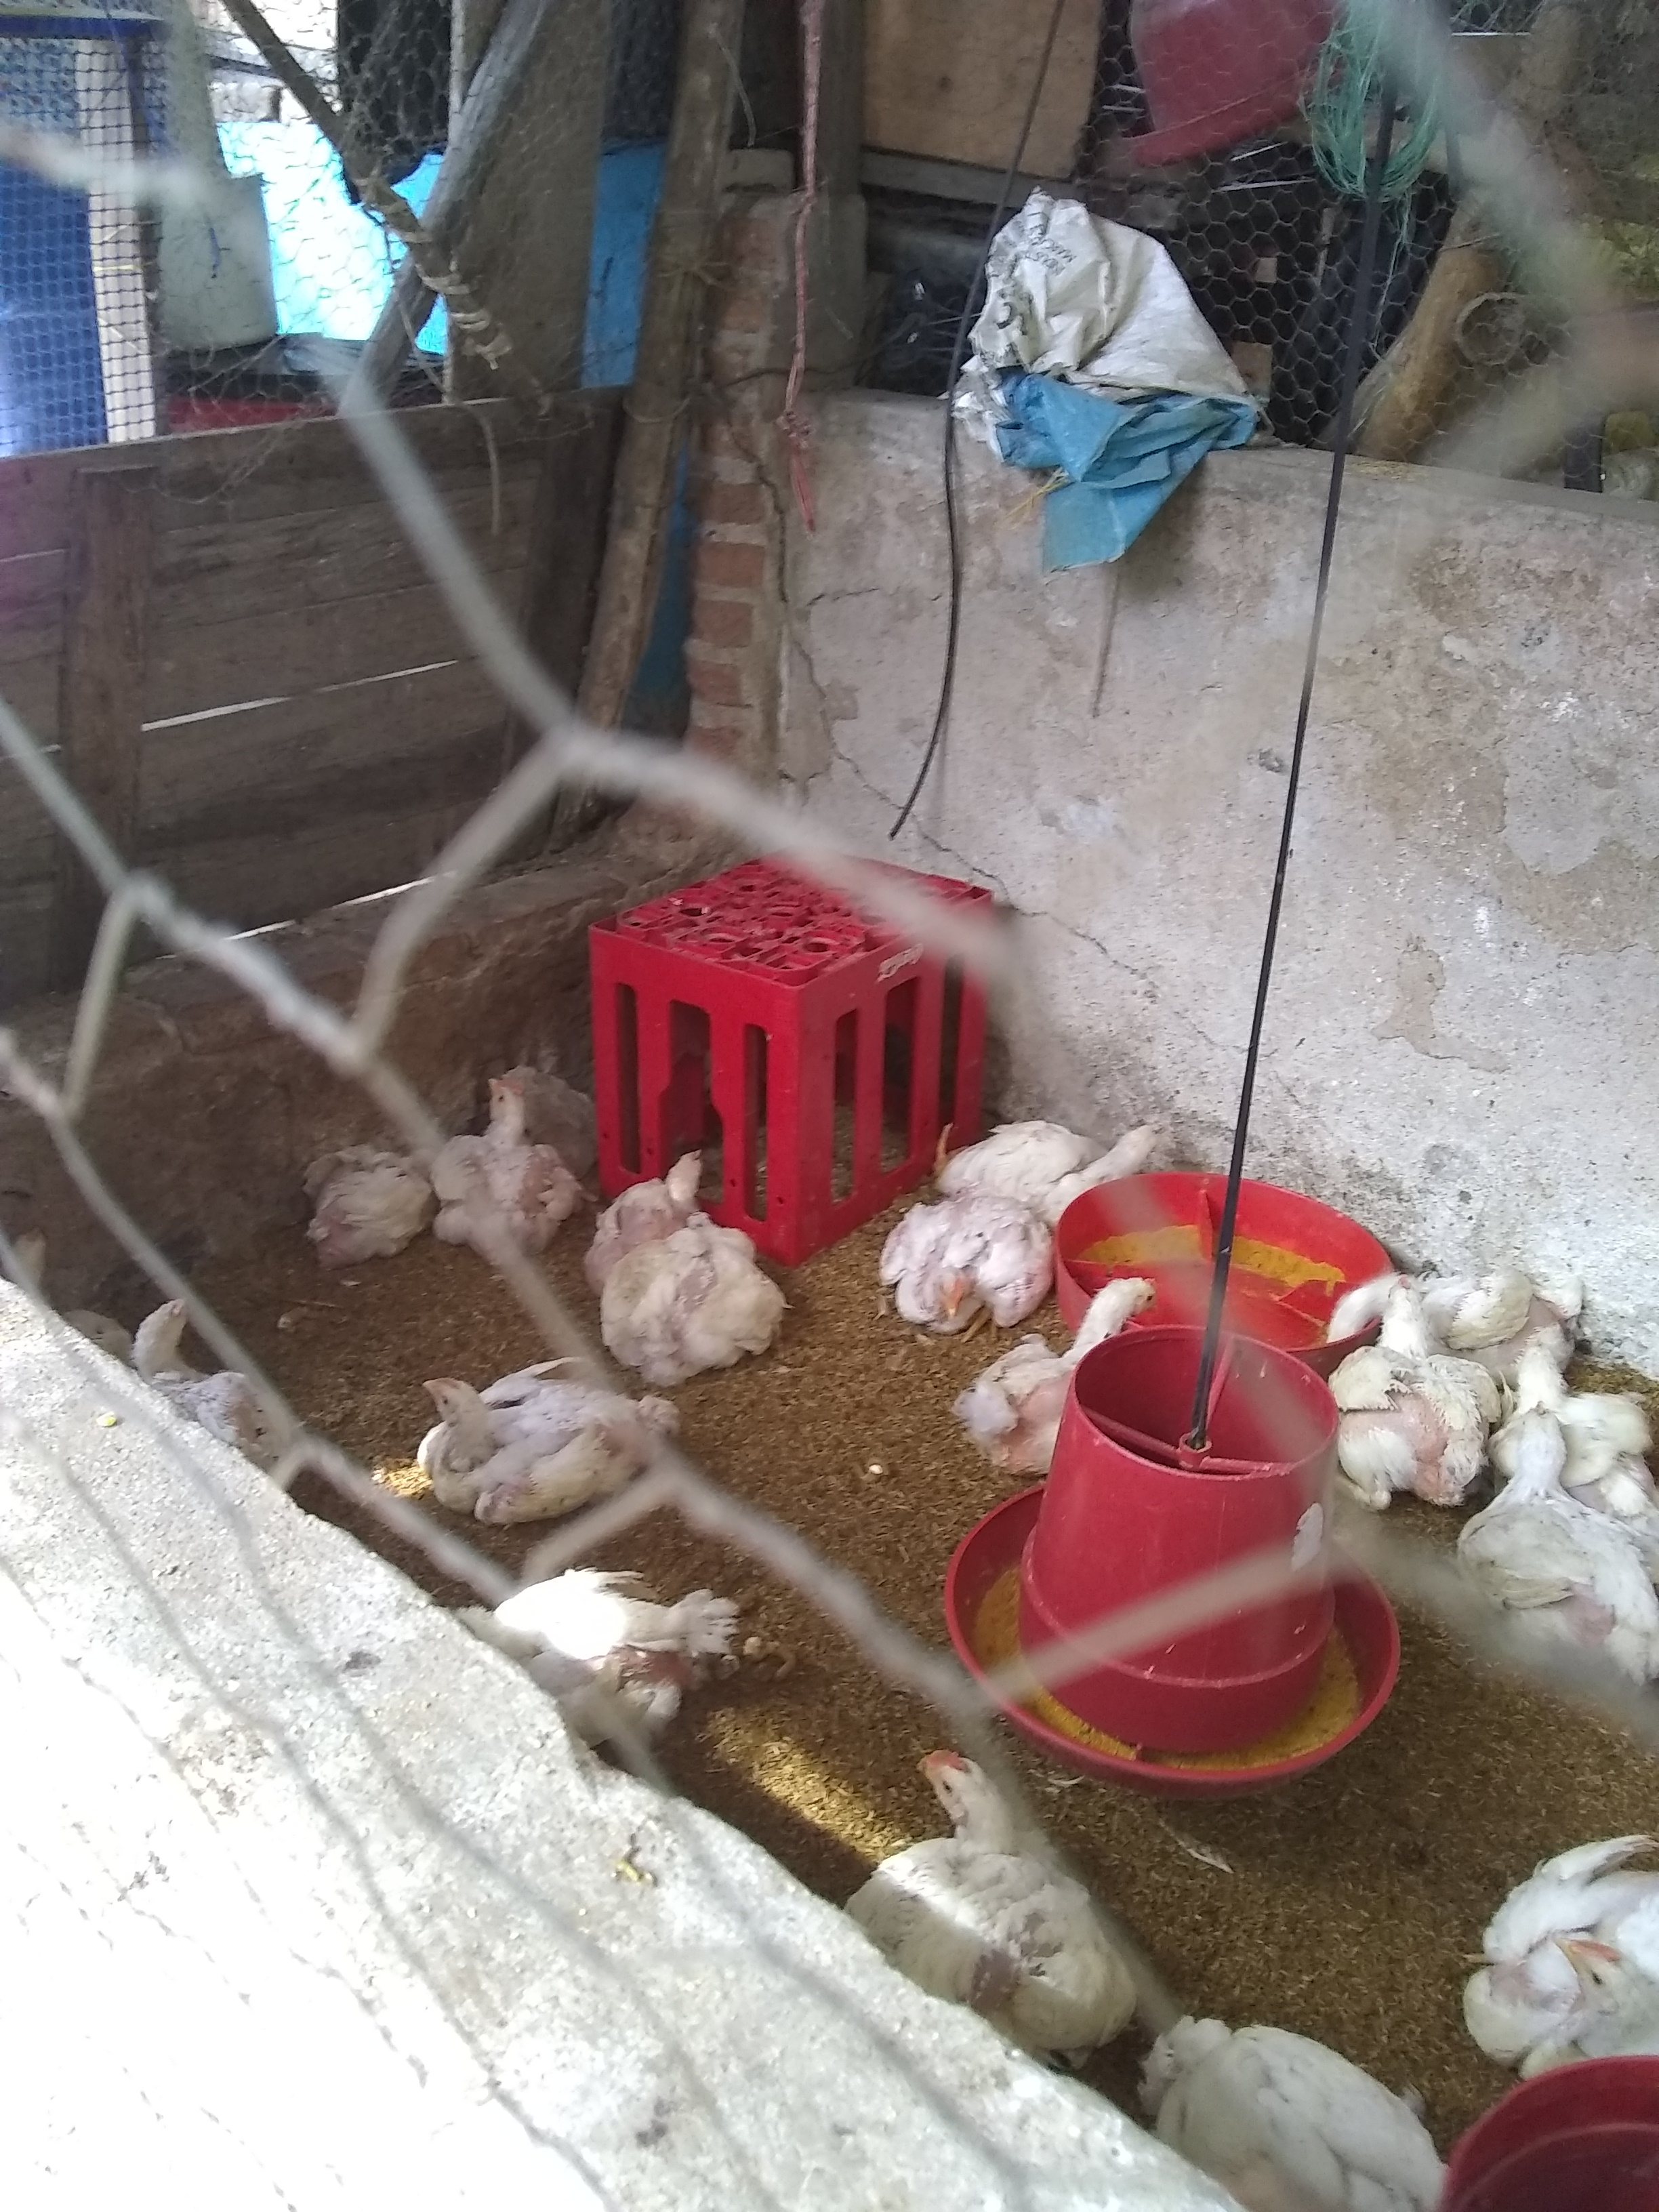Pollos: (842, 1723, 1131, 2066), (1155, 1940, 1464, 2212), (436, 1540, 796, 1728), (1459, 1822, 1659, 2076), (1464, 1406, 1659, 1662), (408, 1366, 694, 1503), (967, 1280, 1178, 1467), (1310, 1284, 1486, 1507), (108, 1268, 265, 1460), (408, 1050, 570, 1231), (610, 1219, 779, 1381), (951, 1092, 1183, 1198), (871, 1186, 1042, 1317), (1486, 1332, 1636, 1475), (296, 1134, 432, 1266), (577, 1143, 690, 1263), (1443, 1256, 1582, 1353)
